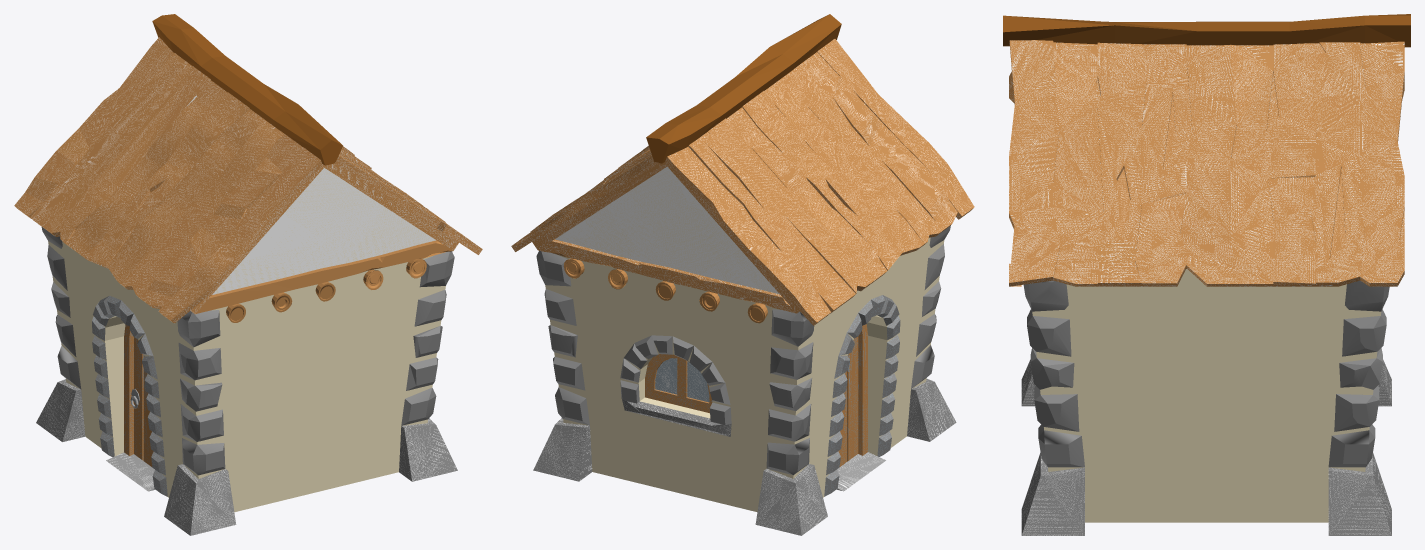
Rendered from House.fbx.
3 views of the same model, side by side, from view 1: azimuth 30°, elevation 25°; view 2: azimuth 150°, elevation 25°; view 3: azimuth 270°, elevation 25° (orthographic). The views are drawn at different scales.
Parts seen in each view (by area): view 1: Roof1, G_2_1, G_18_1, CornStone3, StoneDoor1, CornStone4, G_1_1, Group6, Door1, G_1_2, CornStone1, G_1_3 (+1 smaller); view 2: Roof1, G_2_1, G_18_1, CornStone1, StoneDoor1, CornStone2, G_1_3, Group8, G_4_1, Window1, Door1, G_1_4 (+4 smaller); view 3: Roof1, G_2_1, G_18_1, CornStone4, CornStone2, G_1_4, G_1_2, G_1_1, G_1_3.
Part boxes in pixels (x1,y1,x2,y2): Roof1: [14, 37, 482, 323]; G_2_1: [48, 241, 445, 512]; G_18_1: [152, 14, 342, 165]; CornStone3: [177, 310, 225, 475]; StoneDoor1: [92, 295, 167, 496]; CornStone4: [401, 251, 454, 425]; G_1_1: [164, 464, 236, 535]; Group6: [195, 240, 452, 314]; Door1: [124, 324, 153, 467]; G_1_2: [399, 418, 457, 481]; CornStone1: [41, 227, 81, 389]; G_1_3: [36, 379, 85, 442]; Roof1: [511, 39, 974, 325]; G_2_1: [545, 237, 944, 511]; G_18_1: [646, 14, 841, 163]; CornStone1: [766, 309, 814, 474]; StoneDoor1: [824, 295, 900, 496]; CornStone2: [536, 250, 589, 425]; G_1_3: [755, 464, 827, 535]; Group8: [538, 239, 796, 313]; G_4_1: [620, 335, 731, 425]; Window1: [645, 354, 712, 413]; Door1: [838, 324, 867, 466]; G_1_4: [533, 418, 592, 481]; Roof1: [1009, 40, 1404, 286]; G_2_1: [1032, 269, 1381, 522]; G_18_1: [1003, 14, 1410, 47]; CornStone4: [1023, 280, 1084, 467]; CornStone2: [1328, 280, 1389, 467]; G_1_4: [1328, 453, 1391, 535]; G_1_2: [1021, 452, 1084, 535]; G_1_1: [1021, 359, 1035, 406]; G_1_3: [1378, 359, 1391, 406].
Size of the model in its own units: 3348 by 3847 by 3217.
